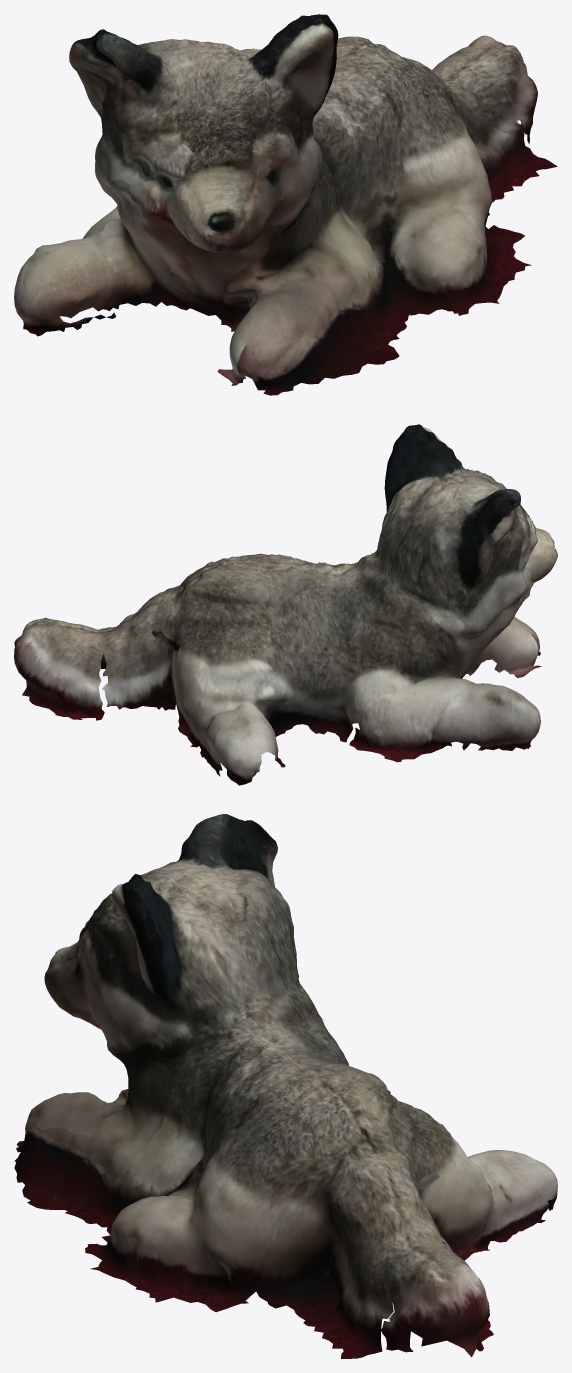
The model's file is Dog_Plushie.obj.
3 renders of one model, top to bottom at view 1: azimuth 30°, elevation 25°; view 2: azimuth 150°, elevation 25°; view 3: azimuth 270°, elevation 25°, orthographic. The views are drawn at different scales.
Visible parts, largest first — view 1: Object; view 2: Object; view 3: Object.
Part boxes in pixels (x1,y1,x2,y2): Object: (14,14,557,395); Object: (14,424,557,785); Object: (14,814,557,1358).
Bounding box in the file's own units: 1.37 × 0.7064 × 1.09.
